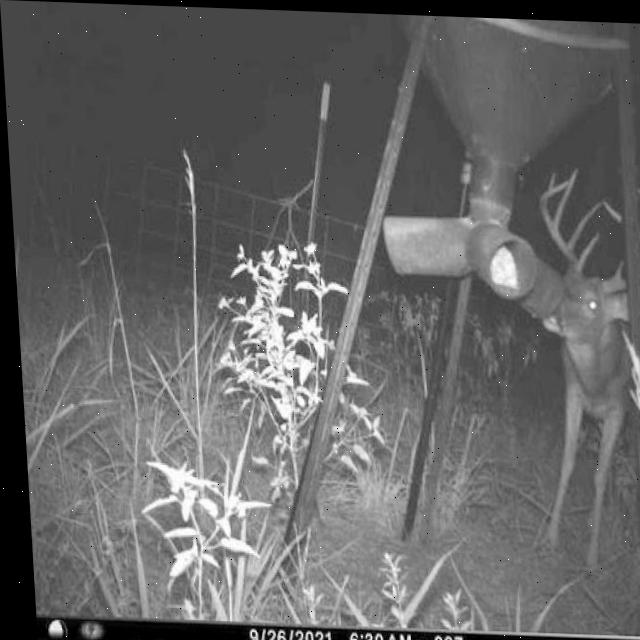Deer: (517, 156, 640, 574)
